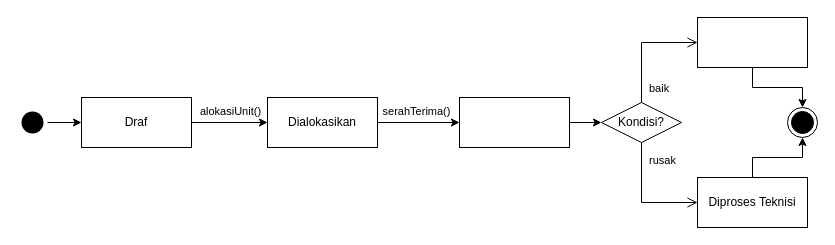
This 835x245 diagram has some shape labels left out. Here are the shapes that lost their labels. From the top down, the centre of each, then its label:
At [752,42]: "Kembali".
At [514,122]: "Dipinjam".
